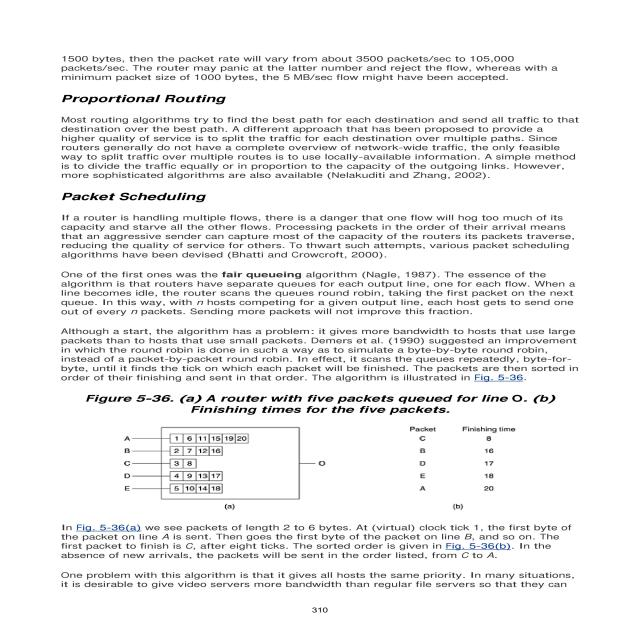diagram: (35, 388, 581, 516)
